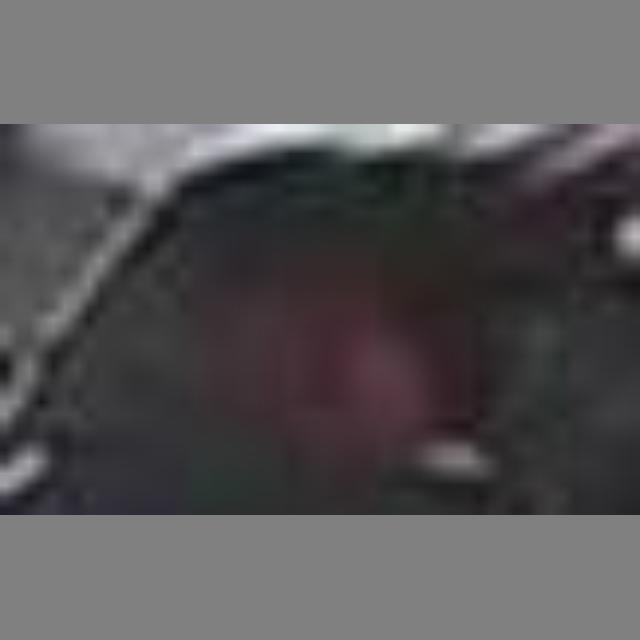tidak-pakai: (201, 254, 427, 432)
